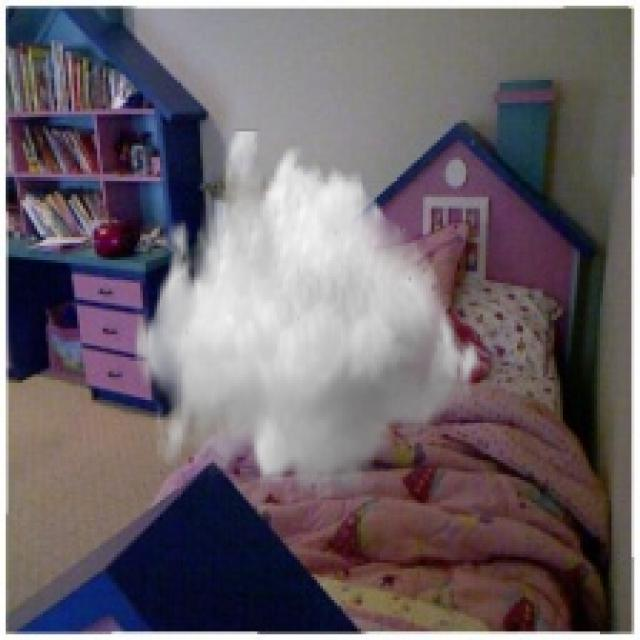smoke: (134, 129, 489, 500)
